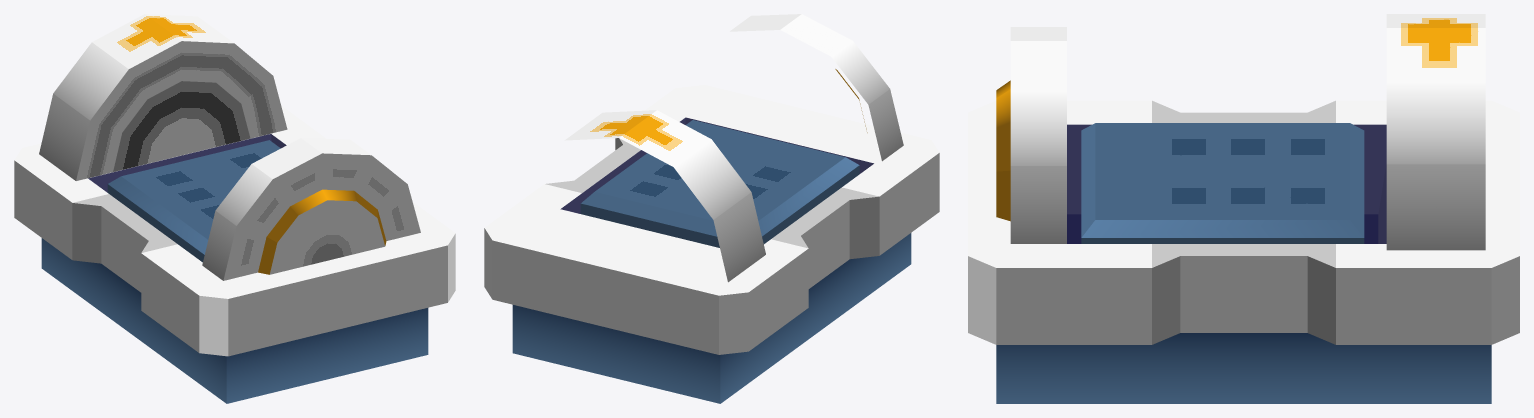
3 renders of one model, left to right at view 1: azimuth 30°, elevation 25°; view 2: azimuth 150°, elevation 25°; view 3: azimuth 270°, elevation 25°, orthographic. The views are drawn at different scales.
Visible parts, largest first — view 1: machine_pc02; view 2: machine_pc02; view 3: machine_pc02.
Part boxes in pixels (x1,y1,x2,y2): machine_pc02: [14, 14, 455, 403]; machine_pc02: [484, 14, 939, 403]; machine_pc02: [968, 14, 1519, 403].
Bounding box in the file's own units: 1.75 × 1.51 × 2.44.
1 material, 1 textured.
